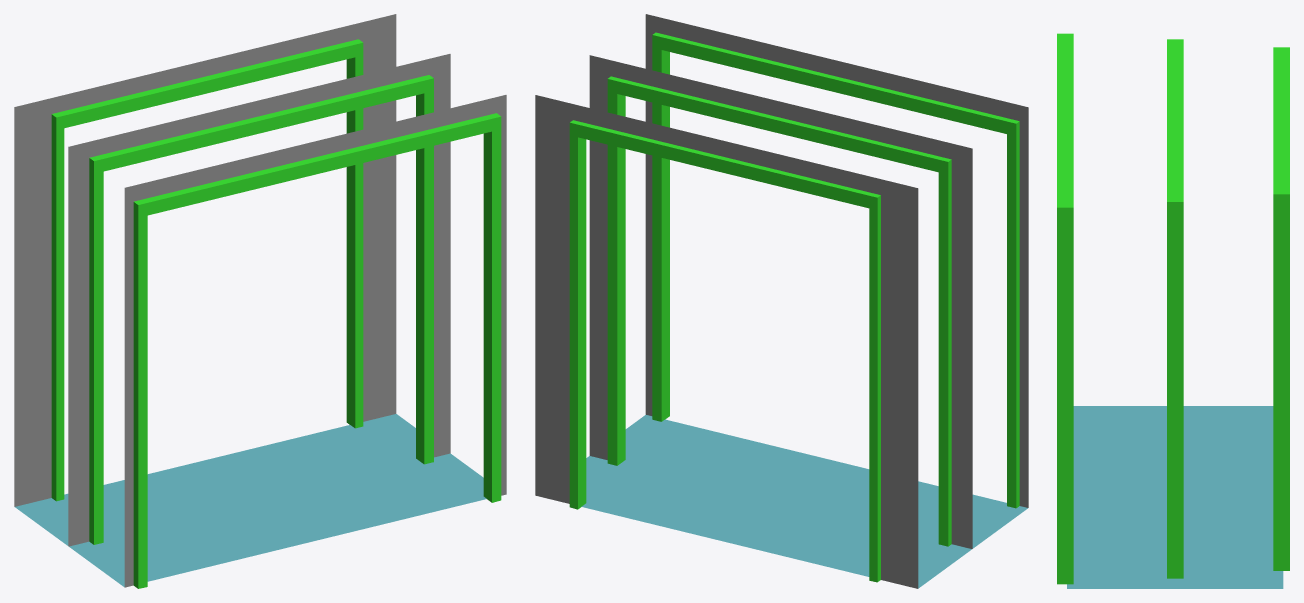
Rendered from ModuleE_doorframedouble1.FBX.
3 renders of one model, left to right at view 1: azimuth 30°, elevation 25°; view 2: azimuth 150°, elevation 25°; view 3: azimuth 270°, elevation 25°, orthographic. The views are drawn at different scales.
Parts seen in each view (by area): view 1: ModuleD_floor05c001, Interior_door_a004, Interior_door_a005, Interior_door_b001, Interior_door_b002, Interior_door_c001, Interior_door_c002; view 2: ModuleD_floor05c001, Interior_door_a005, Interior_door_a004, Interior_door_b001, Interior_door_b002, Interior_door_c001, Interior_door_c002; view 3: ModuleD_floor05c001, Interior_door_c002, Interior_door_b002, Interior_door_a005, Interior_door_c001, Interior_door_b001, Interior_door_a004.
Boxes of the visible parts, bbox=[...] form: ModuleD_floor05c001: bbox=[15, 414, 486, 587]; Interior_door_a004: bbox=[14, 60, 209, 506]; Interior_door_a005: bbox=[205, 14, 396, 428]; Interior_door_b001: bbox=[68, 100, 264, 546]; Interior_door_b002: bbox=[259, 54, 450, 464]; Interior_door_c001: bbox=[124, 141, 320, 588]; Interior_door_c002: bbox=[315, 95, 506, 502]; ModuleD_floor05c001: bbox=[581, 415, 1027, 588]; Interior_door_a005: bbox=[535, 95, 726, 509]; Interior_door_a004: bbox=[723, 141, 918, 588]; Interior_door_b001: bbox=[777, 102, 972, 548]; Interior_door_b002: bbox=[589, 55, 780, 465]; Interior_door_c001: bbox=[833, 60, 1028, 508]; Interior_door_c002: bbox=[645, 14, 836, 421]; ModuleD_floor05c001: bbox=[1067, 406, 1283, 588]; Interior_door_c002: bbox=[1057, 121, 1073, 584]; Interior_door_b002: bbox=[1167, 121, 1183, 578]; Interior_door_a005: bbox=[1273, 120, 1289, 570]; Interior_door_c001: bbox=[1057, 33, 1073, 120]; Interior_door_b001: bbox=[1167, 39, 1183, 120]; Interior_door_a004: bbox=[1273, 47, 1289, 120].
Bounding box in the file's own units: 78.74 × 42.37 × 78.8.
